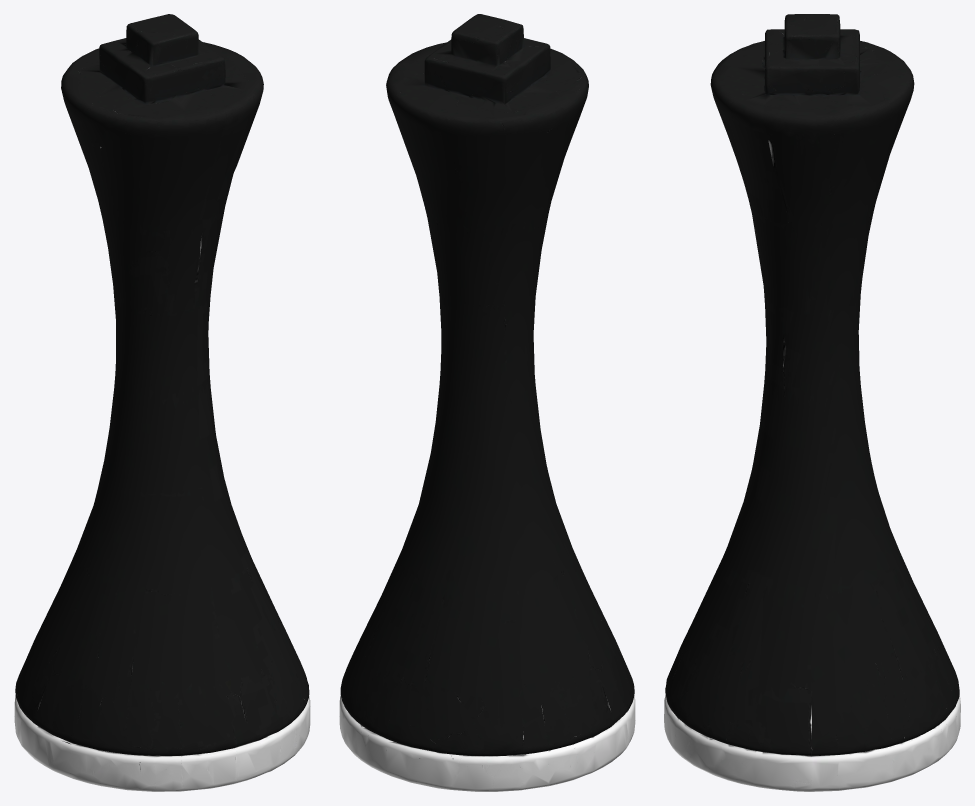
File: king-black.glb
3 views of the same model, side by side, from view 1: azimuth 30°, elevation 25°; view 2: azimuth 150°, elevation 25°; view 3: azimuth 270°, elevation 25° (orthographic).
Size of the model in its own units: 0.6647 by 1.75 by 0.6649.
1 material, 1 textured.
